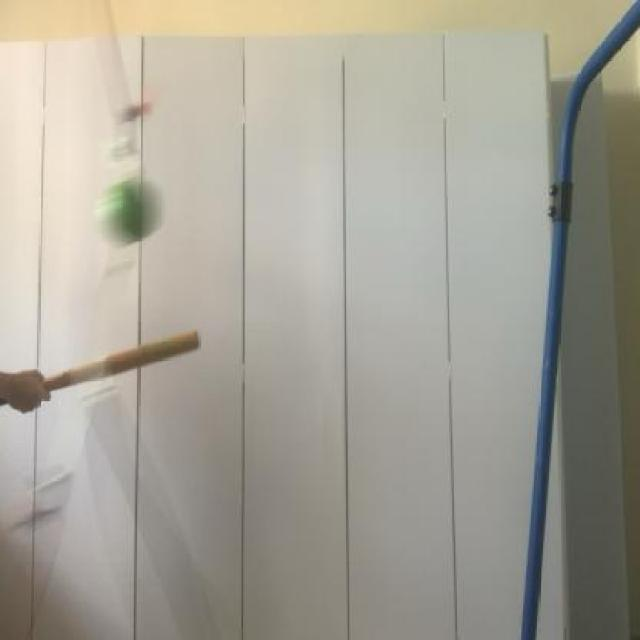baseball: (88, 167, 168, 256)
